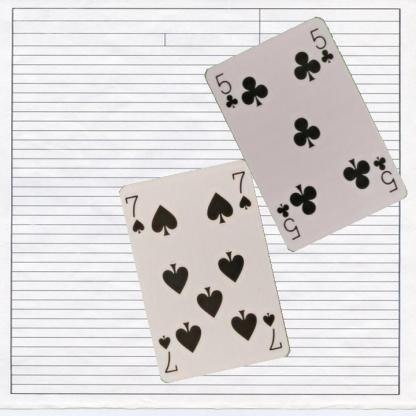5c: (370, 154, 399, 194), (212, 69, 239, 110)
7s: (260, 310, 284, 352), (123, 192, 146, 235)
